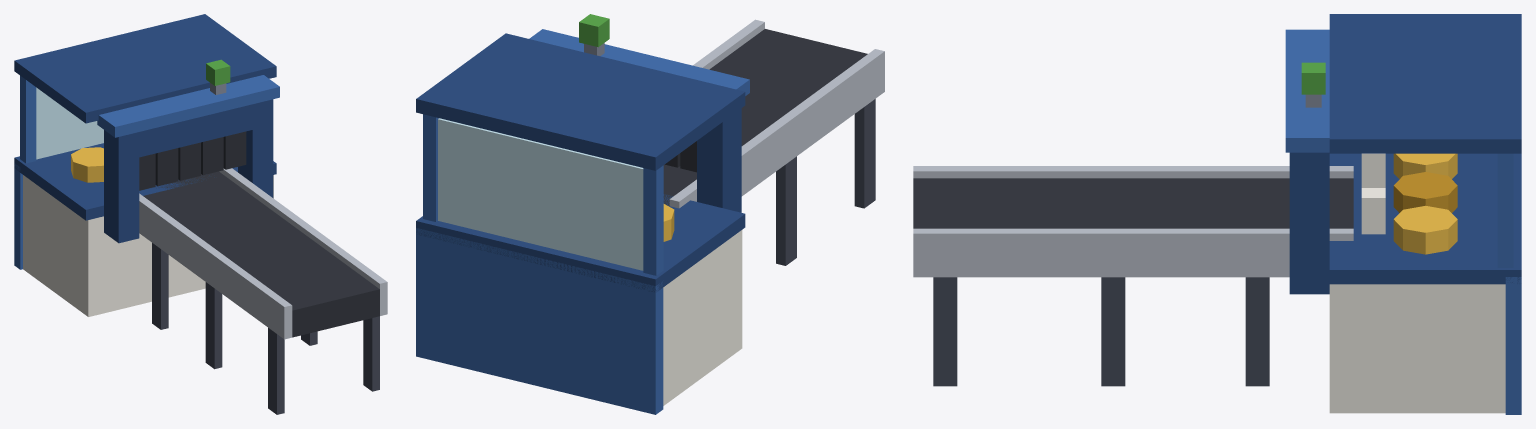
The model's file is exit.glb.
3 renders of one model, left to right at view 1: azimuth 30°, elevation 25°; view 2: azimuth 150°, elevation 25°; view 3: azimuth 270°, elevation 25°, orthographic. The views are drawn at different scales.
Parts seen in each view (by area): view 1: exit; view 2: exit; view 3: exit.
Boxes of the visible parts, box(x1,y1,x2,y2) form: exit: box(14, 14, 387, 414); exit: box(416, 14, 884, 414); exit: box(913, 14, 1521, 414).
Bounding box in the file's own units: 0.74 × 0.84 × 1.52.
Materials: 1 (1 with a texture image).
